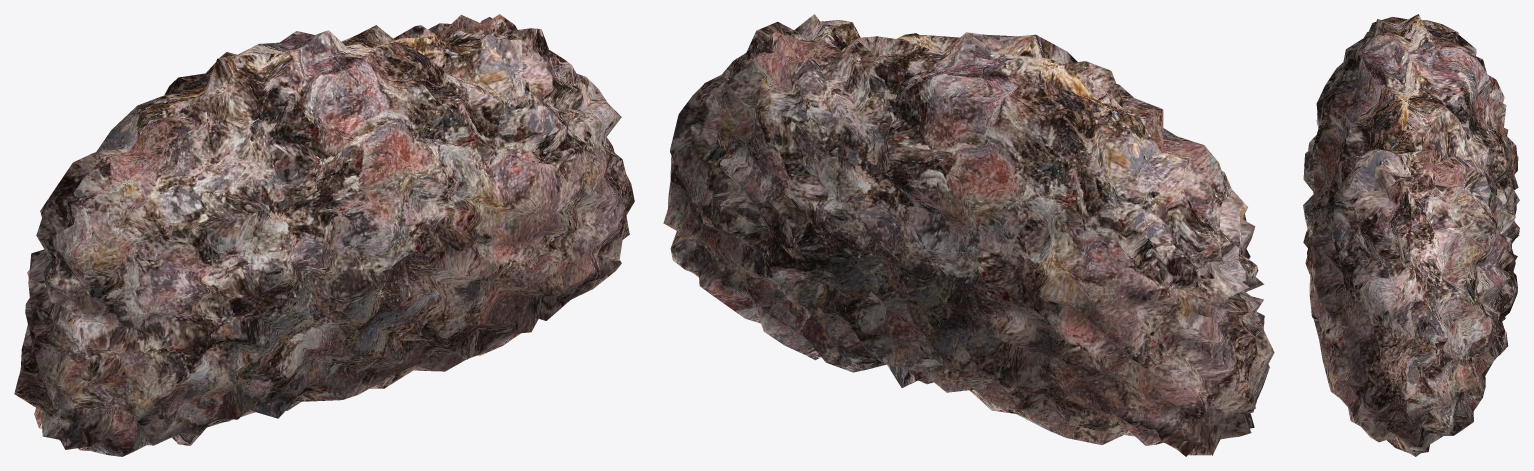
The model's file is Pegmatite.fbx.
3 views of the same model, side by side, from view 1: azimuth 30°, elevation 25°; view 2: azimuth 150°, elevation 25°; view 3: azimuth 270°, elevation 25° (orthographic). The views are drawn at different scales.
Parts seen in each view (by area): view 1: Pegmatite; view 2: Pegmatite; view 3: Pegmatite.
Boxes of the visible parts, left/top/right/bottom form: Pegmatite: left=14, top=14, right=634, bottom=456; Pegmatite: left=663, top=14, right=1274, bottom=456; Pegmatite: left=1303, top=14, right=1519, bottom=456.
Size of the model in its own units: 472 by 277 by 161.
